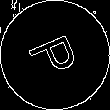P_NE: (25, 28, 85, 82)
